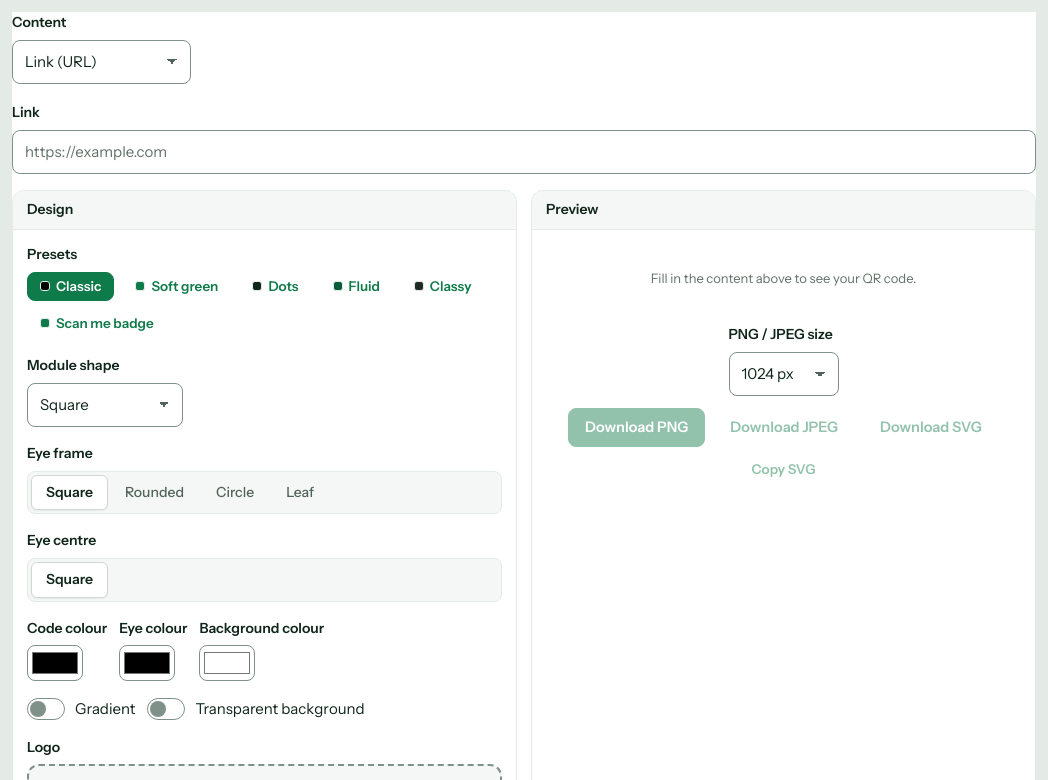
Test: QrCodeGenerator › shows SSID, password and security fields for Wi-Fi
The width and height of the screenshot is (1048, 780).
Select "Wi-Fi" in the dropdown labelled "Content": (102, 62) [12,40,191,84]
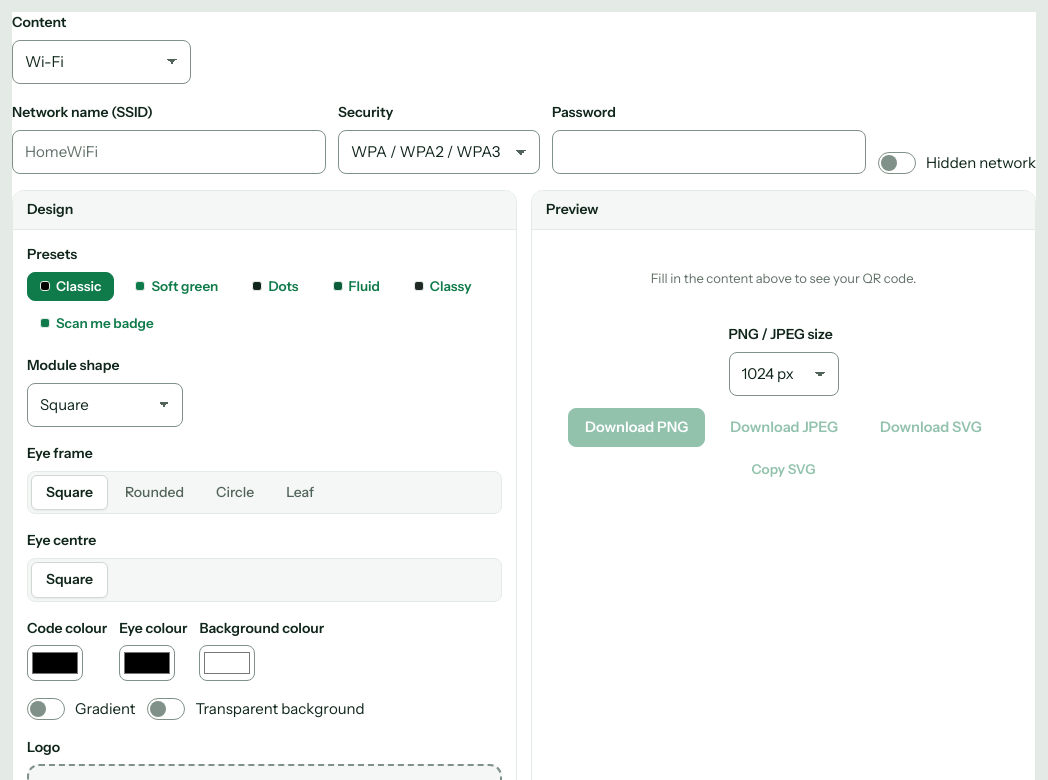
expect the field labelled "Network name (SSID)" is shown: met, box [12,130,326,174]
expect the dropdown labelled "Security" is shown: met, box [338,130,540,174]
